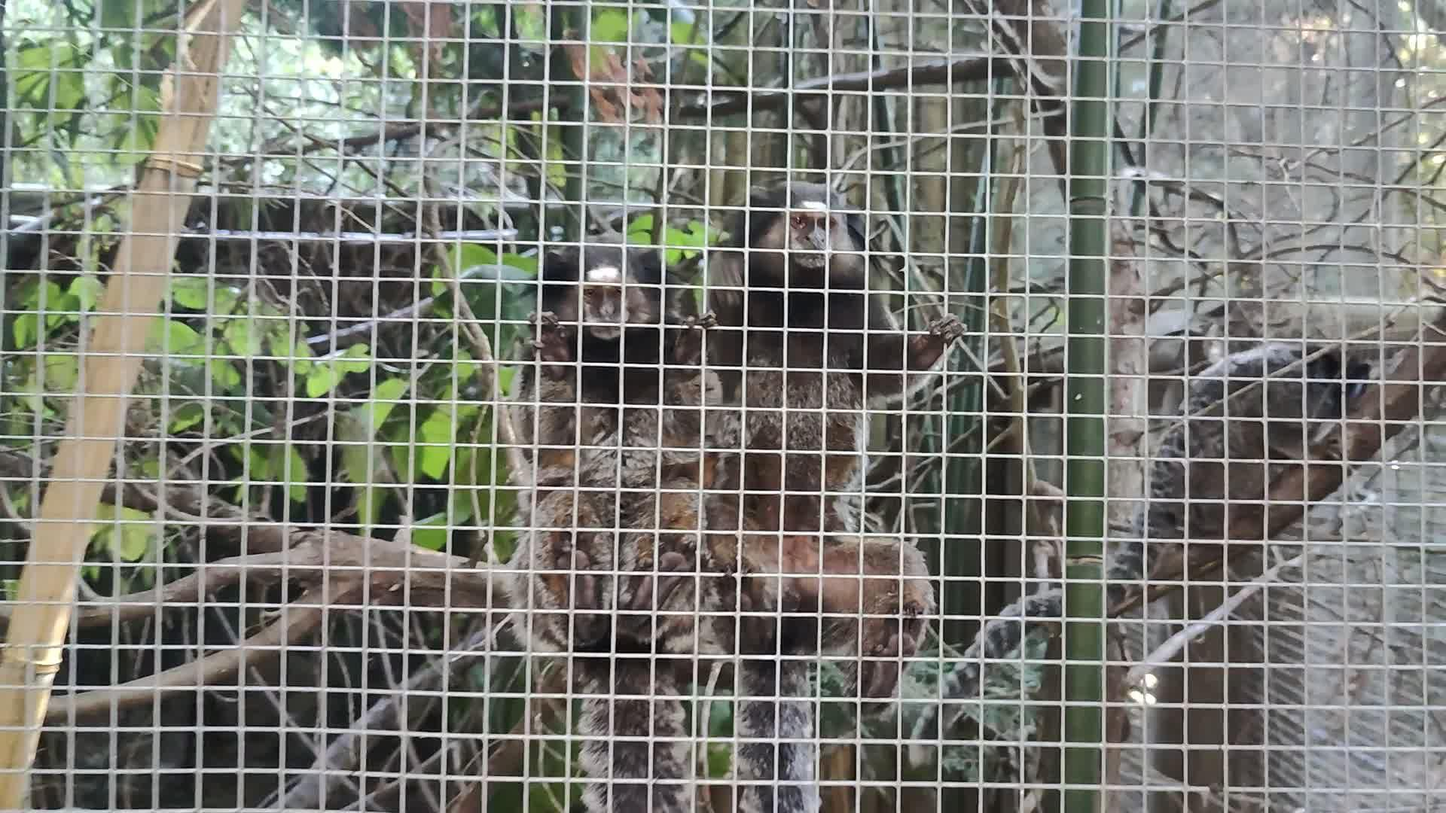boar: (909, 341, 1373, 768), (708, 181, 968, 813), (507, 234, 724, 813)
